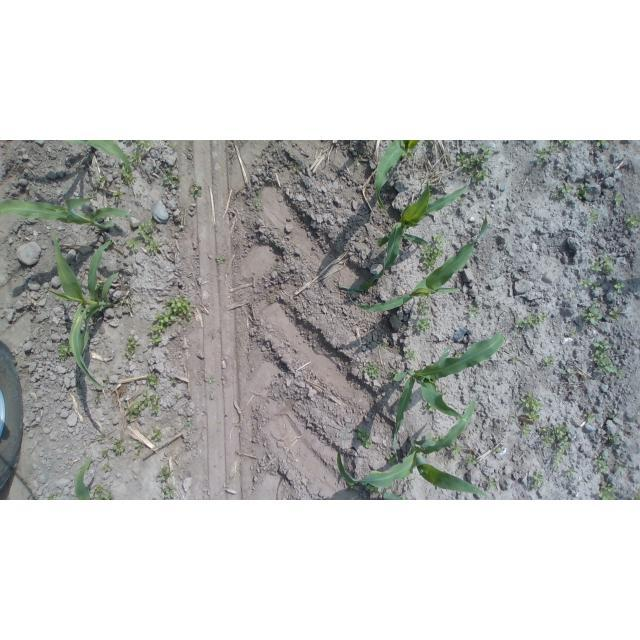Maize: (336, 179, 472, 293), (338, 401, 491, 500), (347, 207, 489, 313), (392, 333, 504, 453), (45, 228, 120, 390), (0, 197, 138, 231), (374, 140, 420, 218), (60, 140, 132, 173), (73, 455, 91, 500)
Weeds: (148, 295, 197, 345), (455, 146, 494, 186), (124, 390, 161, 420), (420, 231, 444, 272), (591, 340, 617, 373), (540, 423, 569, 447), (521, 392, 543, 420), (580, 301, 604, 325), (135, 220, 161, 241), (589, 255, 616, 274), (516, 313, 548, 329), (161, 166, 182, 189), (124, 335, 141, 357), (356, 428, 373, 449), (552, 183, 573, 199), (599, 484, 618, 501), (530, 470, 545, 491), (120, 166, 136, 185), (93, 484, 112, 500), (57, 343, 73, 362), (579, 278, 601, 291), (552, 448, 566, 468), (126, 236, 143, 252), (364, 364, 380, 381), (595, 455, 609, 474), (417, 300, 432, 316), (535, 148, 549, 165), (188, 183, 203, 198), (624, 213, 640, 227), (416, 319, 432, 333), (463, 453, 477, 468), (146, 240, 162, 253), (96, 172, 109, 187), (112, 440, 125, 455), (451, 442, 462, 459), (127, 151, 141, 164), (146, 374, 158, 389), (469, 305, 480, 321), (136, 140, 153, 150), (404, 349, 417, 362), (164, 484, 176, 498), (576, 183, 587, 198), (612, 193, 624, 206), (588, 207, 599, 221), (45, 492, 62, 501), (121, 299, 132, 312), (521, 423, 531, 437), (159, 466, 169, 480), (562, 369, 576, 379), (488, 476, 497, 491), (112, 189, 124, 200), (614, 281, 625, 293), (609, 310, 620, 322), (134, 443, 142, 459), (152, 427, 161, 441), (608, 434, 619, 445), (584, 411, 595, 422), (558, 141, 574, 148), (427, 402, 438, 412), (252, 200, 262, 210), (387, 455, 398, 464), (544, 357, 555, 366), (366, 484, 378, 492), (387, 371, 397, 380), (208, 373, 216, 384), (597, 141, 608, 148), (425, 435, 435, 442), (616, 367, 624, 375), (492, 447, 500, 455), (570, 329, 577, 338), (567, 467, 573, 477), (551, 146, 558, 154), (105, 464, 112, 472), (184, 421, 192, 428), (632, 493, 640, 500), (96, 394, 101, 404), (293, 165, 300, 172), (455, 352, 462, 359), (348, 483, 356, 489), (102, 449, 108, 457), (512, 356, 518, 364), (380, 342, 387, 348), (555, 167, 562, 173), (216, 259, 224, 264), (135, 193, 141, 199), (609, 413, 615, 419), (423, 295, 429, 301), (439, 388, 445, 394), (458, 197, 464, 203), (99, 436, 105, 441), (172, 380, 177, 386), (439, 435, 446, 439), (256, 190, 261, 195), (511, 416, 516, 421), (172, 142, 176, 148), (429, 194, 435, 198), (179, 224, 184, 228), (356, 162, 360, 167), (104, 376, 109, 380), (446, 212, 451, 216), (384, 205, 388, 210), (269, 300, 274, 304), (13, 360, 17, 364)
